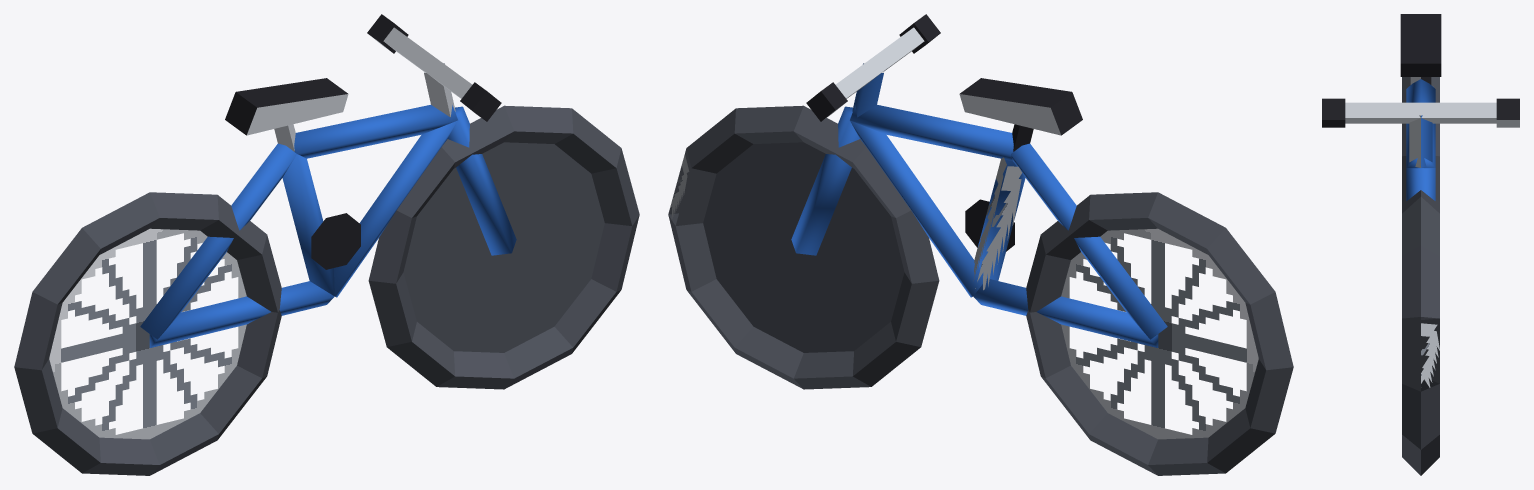
Rendered from around-bicycle.glb.
3 views of the same model, side by side, from view 1: azimuth 30°, elevation 25°; view 2: azimuth 150°, elevation 25°; view 3: azimuth 270°, elevation 25° (orthographic). The views are drawn at different scales.
Visible parts, largest first — view 1: around.bicycle; view 2: around.bicycle; view 3: around.bicycle.
Boxes of the visible parts, x1,y1,x2,y2 form: around.bicycle: [14, 14, 639, 475]; around.bicycle: [668, 14, 1293, 475]; around.bicycle: [1322, 14, 1519, 475].
Size of the model in its own units: 1.99 by 1.08 by 0.5804.
Materials: 5 (1 with a texture image).
